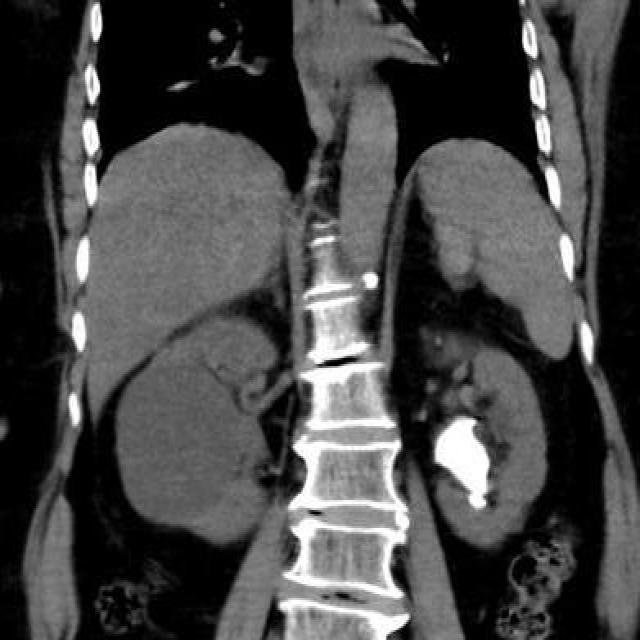Tas_Var: (425, 403, 503, 493), (464, 494, 489, 510)
